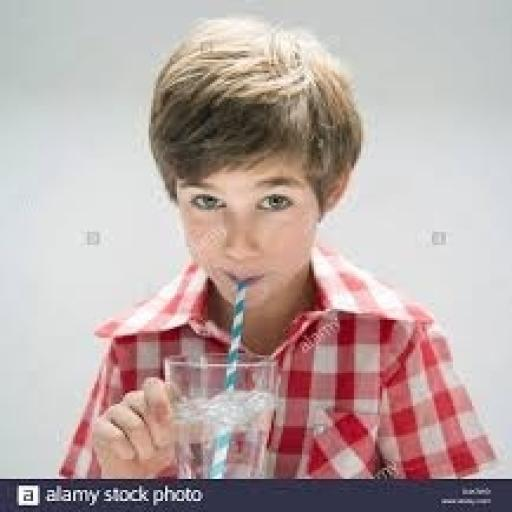drinking: (160, 351, 278, 479)
